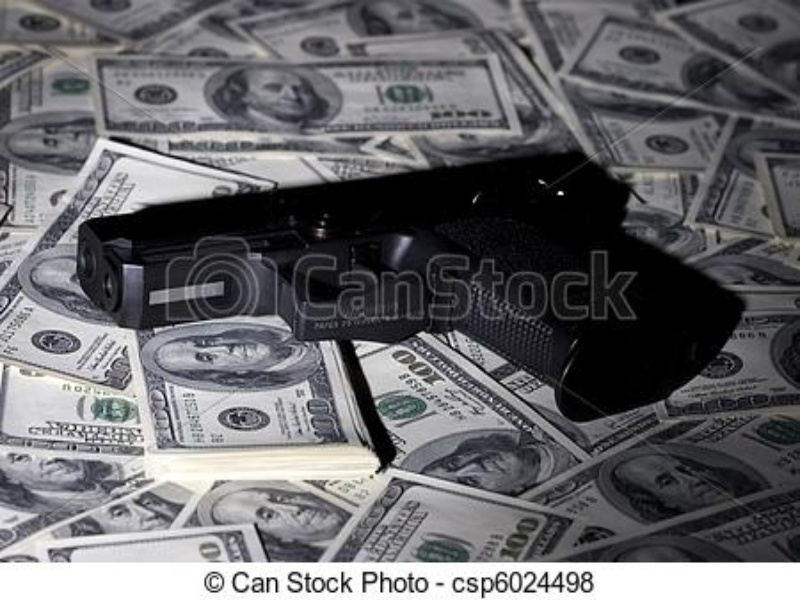gun: (78, 157, 699, 433)
